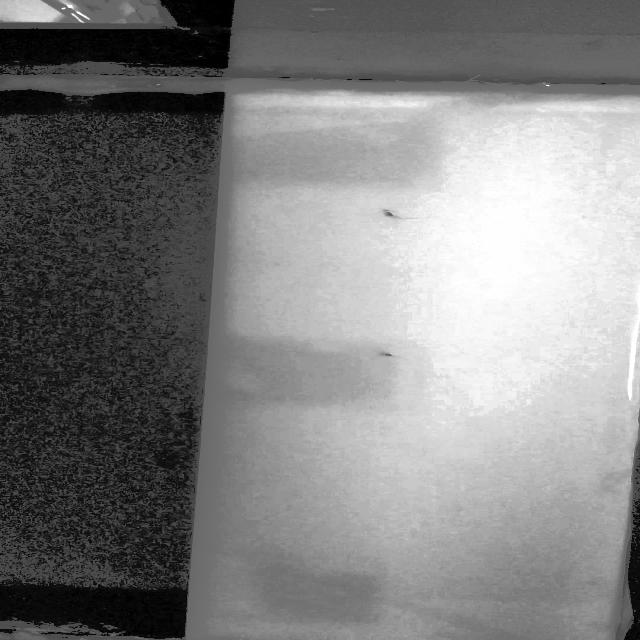shrimp: (374, 205, 400, 225), (369, 351, 398, 362)
